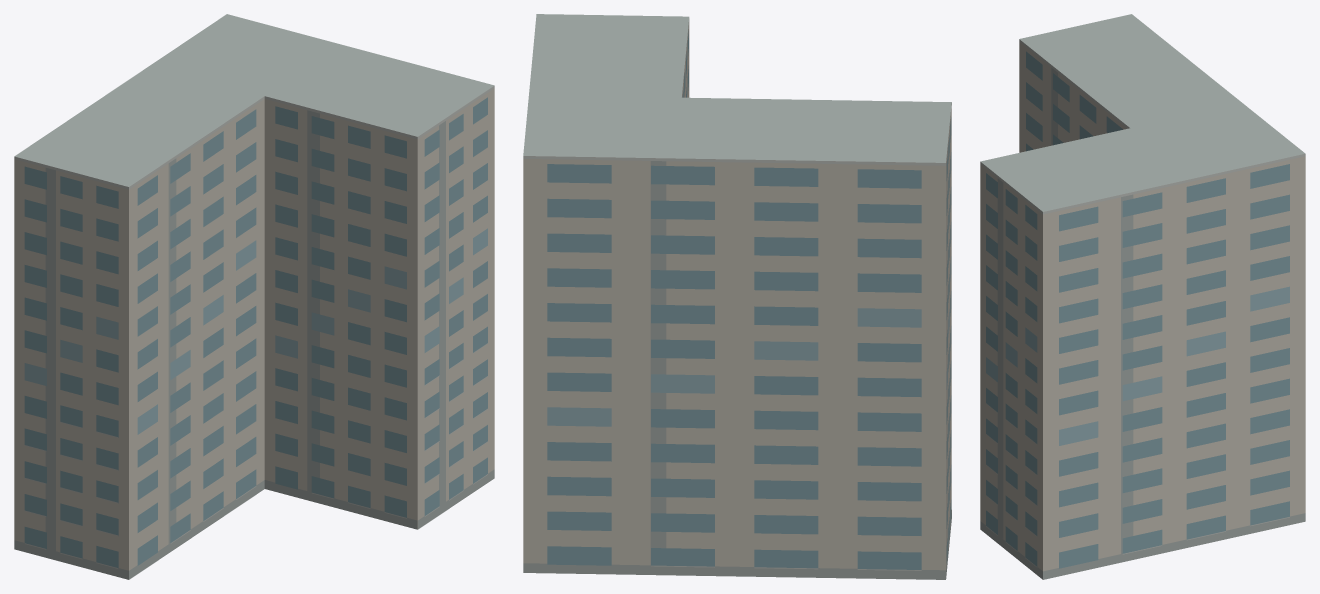
The model's file is residential-4d8b85d6-2e27-48ab-9722-33dbd16c187d.glb.
3 renders of one model, left to right at view 1: azimuth 30°, elevation 25°; view 2: azimuth 150°, elevation 25°; view 3: azimuth 270°, elevation 25°, orthographic. The views are drawn at different scales.
Visible parts, largest first — view 1: residential-4d8b85d6-2e27-48ab-9722-33dbd16c187d.tmp; view 2: residential-4d8b85d6-2e27-48ab-9722-33dbd16c187d.tmp; view 3: residential-4d8b85d6-2e27-48ab-9722-33dbd16c187d.tmp.
Boxes of the visible parts, x1,y1,x2,y2 form: residential-4d8b85d6-2e27-48ab-9722-33dbd16c187d.tmp: (14,14,494,579); residential-4d8b85d6-2e27-48ab-9722-33dbd16c187d.tmp: (523,14,951,579); residential-4d8b85d6-2e27-48ab-9722-33dbd16c187d.tmp: (980,14,1305,579).
Size of the model in its own units: 40.4 by 35 by 28.05.
